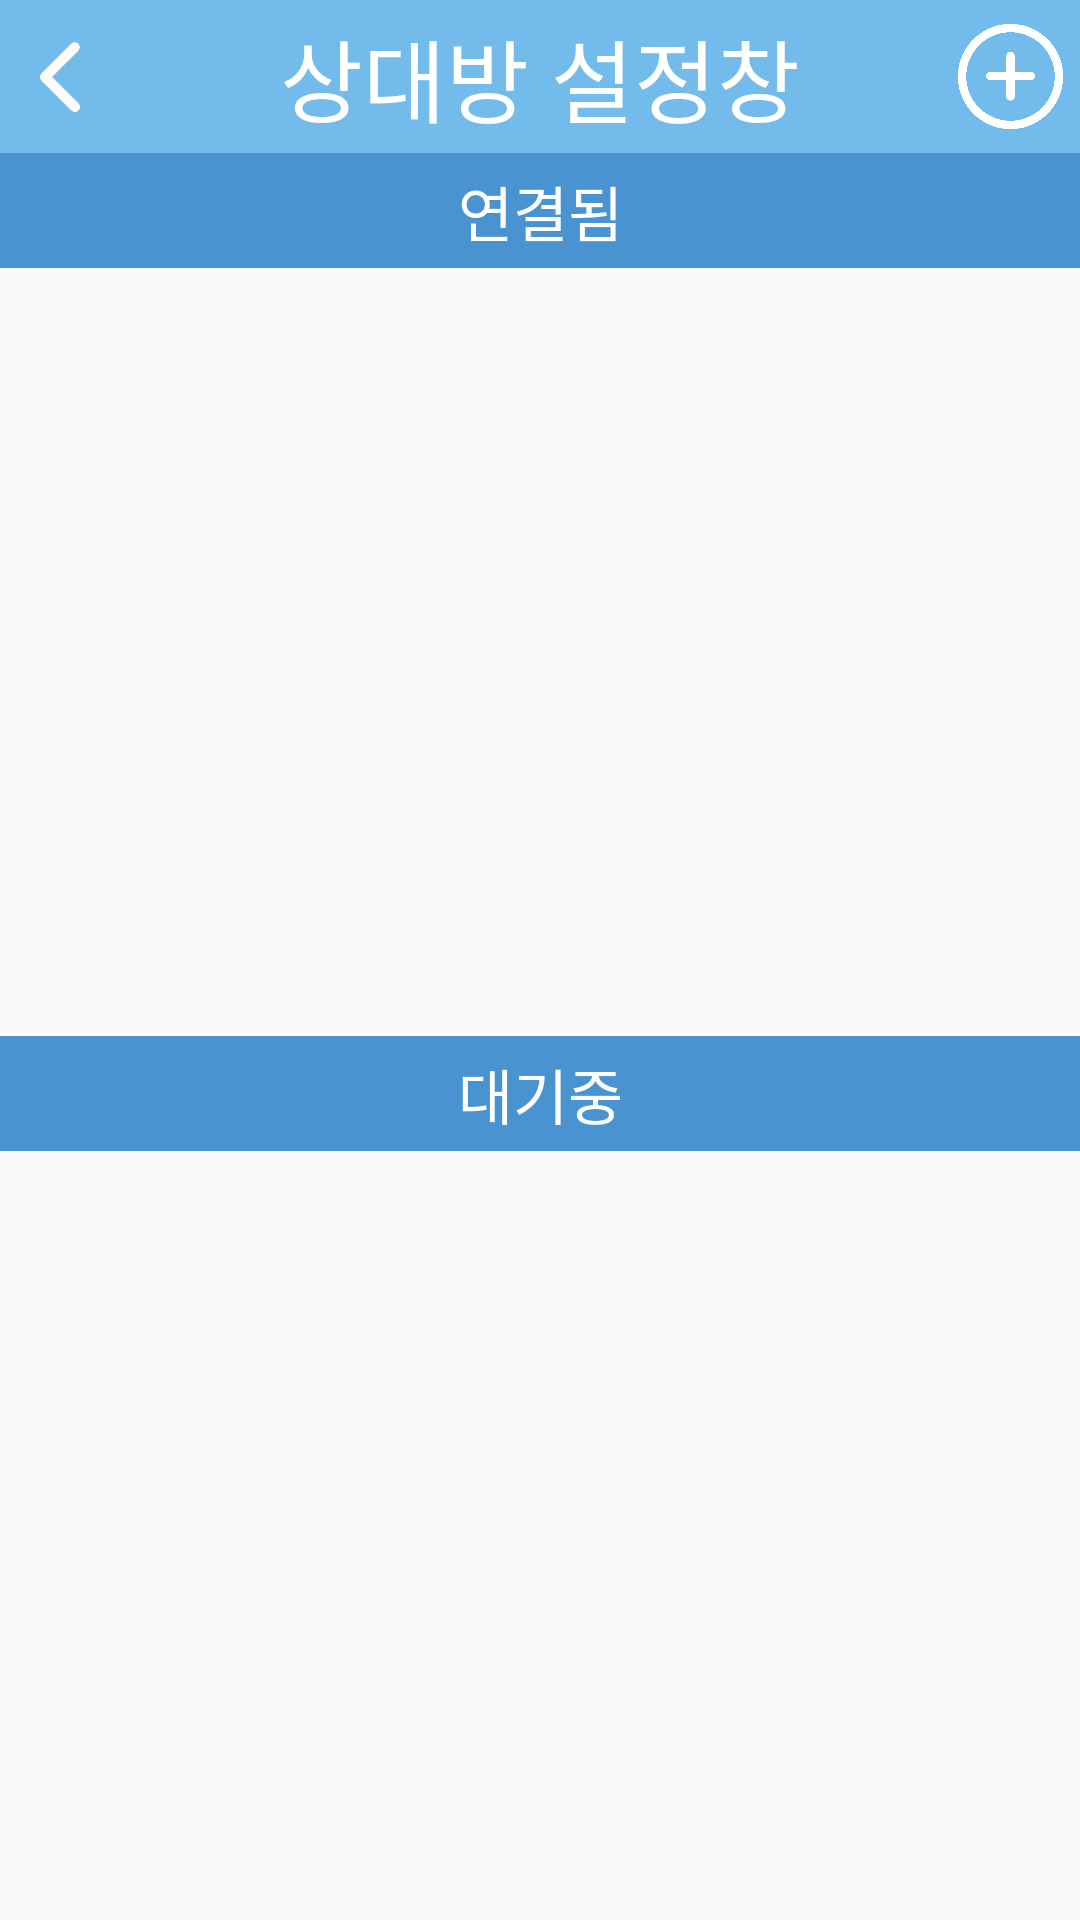

Named icons in this screenshot (1080px×1920px) and their bounding boxes, (x1=x1, y1=y1, x2=x2, y2=y2):
plus: (x1=958, y1=24, x2=1063, y2=129)
previous: (x1=40, y1=42, x2=80, y2=112)
